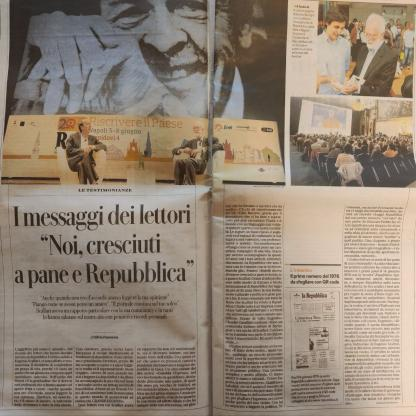immagine: (1, 0, 286, 188), (287, 96, 416, 192), (315, 2, 413, 98)
testo_col: (222, 201, 286, 412), (341, 200, 404, 408), (134, 343, 201, 416), (10, 344, 74, 414), (74, 344, 135, 412)
titolo: (7, 200, 196, 291)
